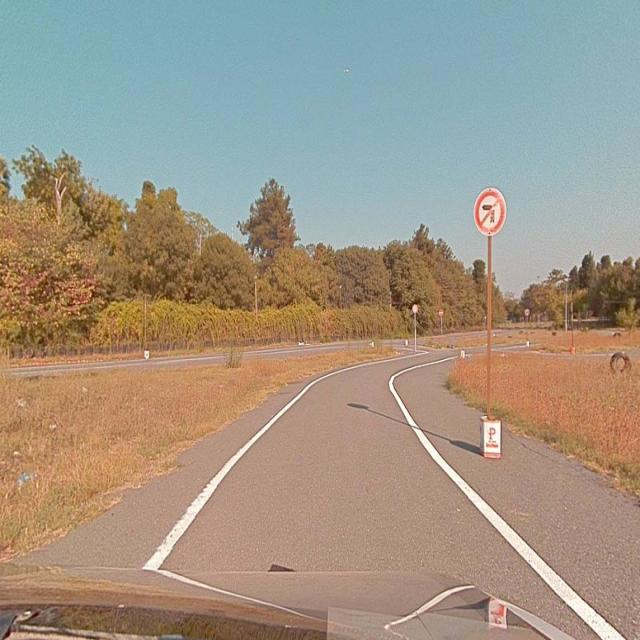soladonulmez: (473, 189, 506, 235)
